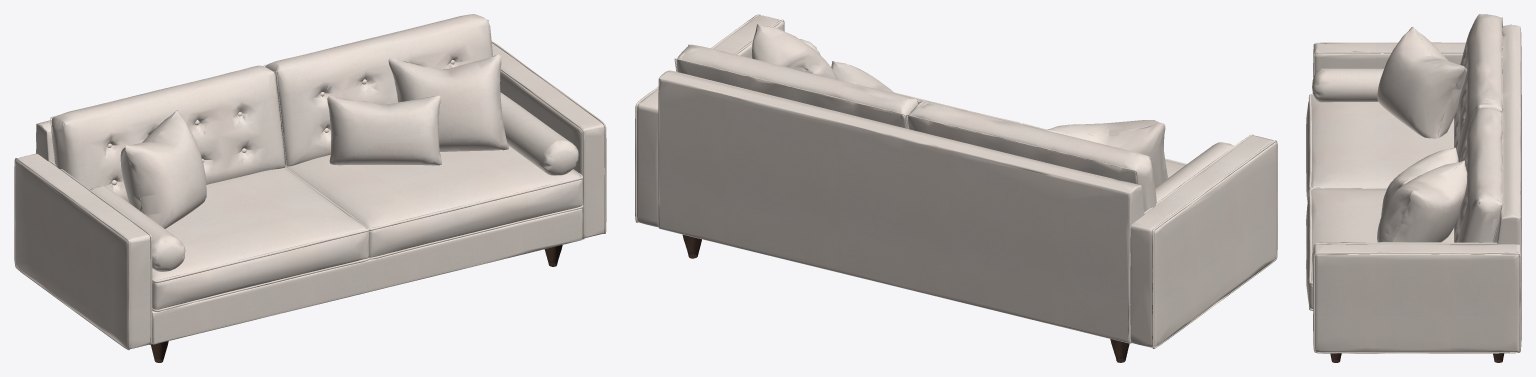
The model's file is CSTM2247.obj.
3 renders of one model, left to right at view 1: azimuth 30°, elevation 25°; view 2: azimuth 150°, elevation 25°; view 3: azimuth 270°, elevation 25°, orthographic. The views are drawn at different scales.
Parts seen in each view (by area): view 1: not_clear_obj_0_v6, not_clear_obj_1_v6; view 2: not_clear_obj_0_v6, not_clear_obj_1_v6; view 3: not_clear_obj_0_v6, not_clear_obj_1_v6.
Boxes of the visible parts, x1,y1,x2,y2 form: not_clear_obj_0_v6: (14, 14, 606, 350); not_clear_obj_1_v6: (151, 245, 562, 362); not_clear_obj_0_v6: (635, 14, 1277, 348); not_clear_obj_1_v6: (682, 235, 1129, 362); not_clear_obj_0_v6: (1306, 14, 1521, 353); not_clear_obj_1_v6: (1330, 353, 1504, 362).
Size of what is drawn, in the model's own units: 218 by 81.23 by 93.98.
